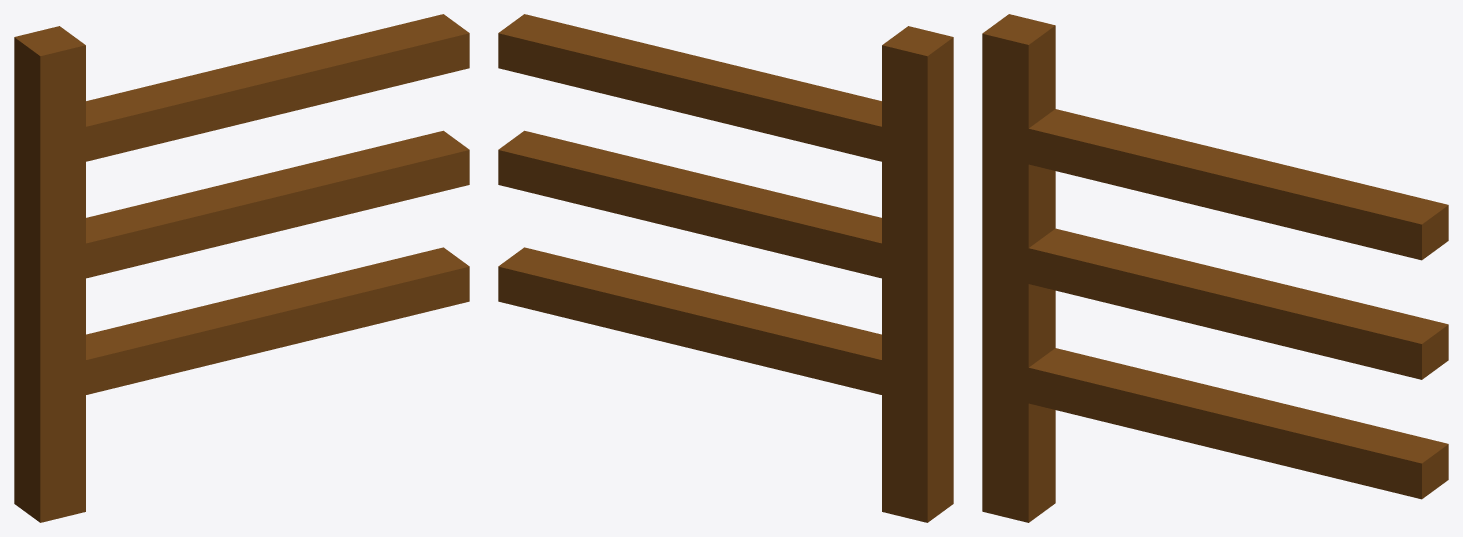
File: Fence.fbx
The picture shows the model from 3 angles, left to right: view 1: azimuth 30°, elevation 25°; view 2: azimuth 150°, elevation 25°; view 3: azimuth 330°, elevation 25°; orthographic projection. The views are drawn at different scales.
Visible parts, largest first — view 1: Fence; view 2: Fence; view 3: Fence.
Part boxes in pixels (<box>): Fence: <box>14,14,469,522</box>; Fence: <box>498,14,953,522</box>; Fence: <box>982,14,1448,522</box>.
Bounding box in the file's own units: 2.98 × 3.1 × 0.3158.
